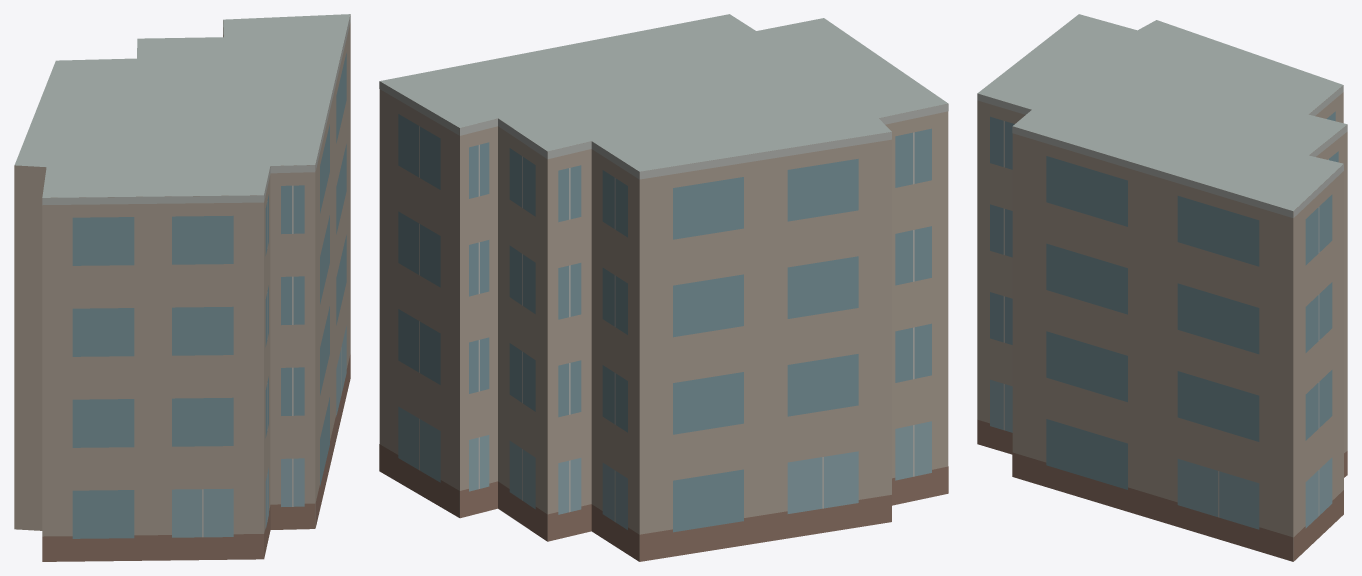
The model's file is survey-upis-32749816.glb.
3 views of the same model, side by side, from view 1: azimuth 30°, elevation 25°; view 2: azimuth 150°, elevation 25°; view 3: azimuth 270°, elevation 25° (orthographic). The views are drawn at different scales.
Visible parts, largest first — view 1: survey-upis-32749816.tmp; view 2: survey-upis-32749816.tmp; view 3: survey-upis-32749816.tmp.
Boxes of the visible parts, bbox=[...] form: survey-upis-32749816.tmp: bbox=[14, 14, 350, 561]; survey-upis-32749816.tmp: bbox=[379, 14, 948, 561]; survey-upis-32749816.tmp: bbox=[977, 14, 1347, 561].
Size of the model in its own units: 14.72 by 12.2 by 11.69.
